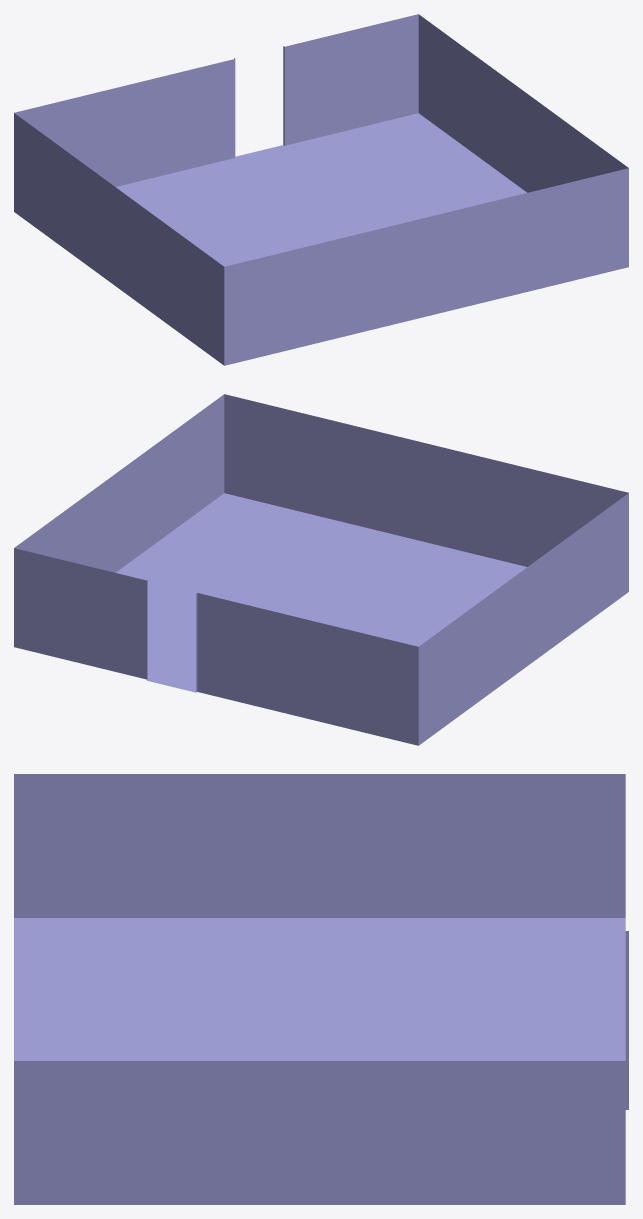
Rendered from rooms3_2.glb.
3 renders of one model, top to bottom at view 1: azimuth 30°, elevation 25°; view 2: azimuth 150°, elevation 25°; view 3: azimuth 270°, elevation 25°, orthographic. The views are drawn at different scales.
Parts seen in each view (by area): view 1: Cube.036; view 2: Cube.036; view 3: Cube.036.
Boxes of the visible parts, x1,y1,x2,y2 form: Cube.036: [14, 14, 628, 365]; Cube.036: [14, 394, 628, 745]; Cube.036: [14, 774, 628, 1204].
Bounding box in the file's own units: 8.73 × 2.04 × 7.9.
